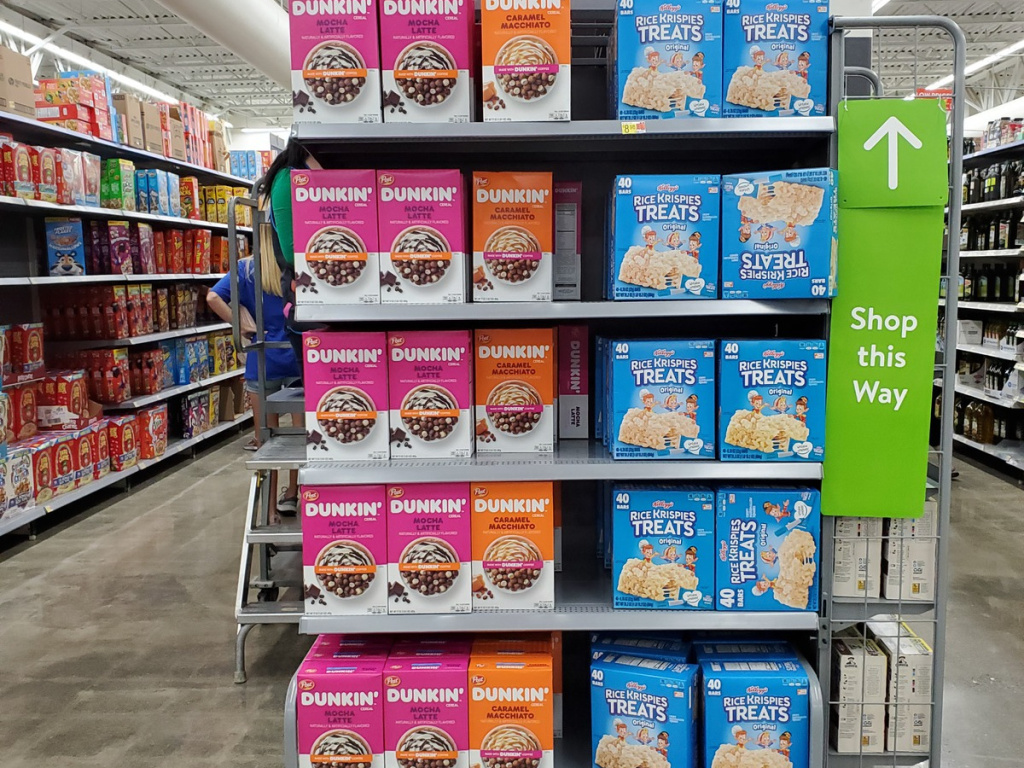cereal: (287, 1, 380, 123), (481, 1, 574, 121), (469, 173, 553, 303), (381, 3, 471, 124), (299, 169, 378, 305), (383, 172, 463, 306), (387, 487, 471, 608), (475, 332, 555, 459), (303, 491, 385, 613), (474, 486, 554, 610), (391, 334, 469, 460), (309, 337, 386, 463), (297, 676, 382, 768), (386, 676, 467, 768), (469, 675, 549, 768)
